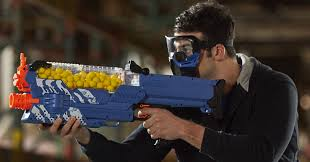gun: (7, 51, 231, 130)
